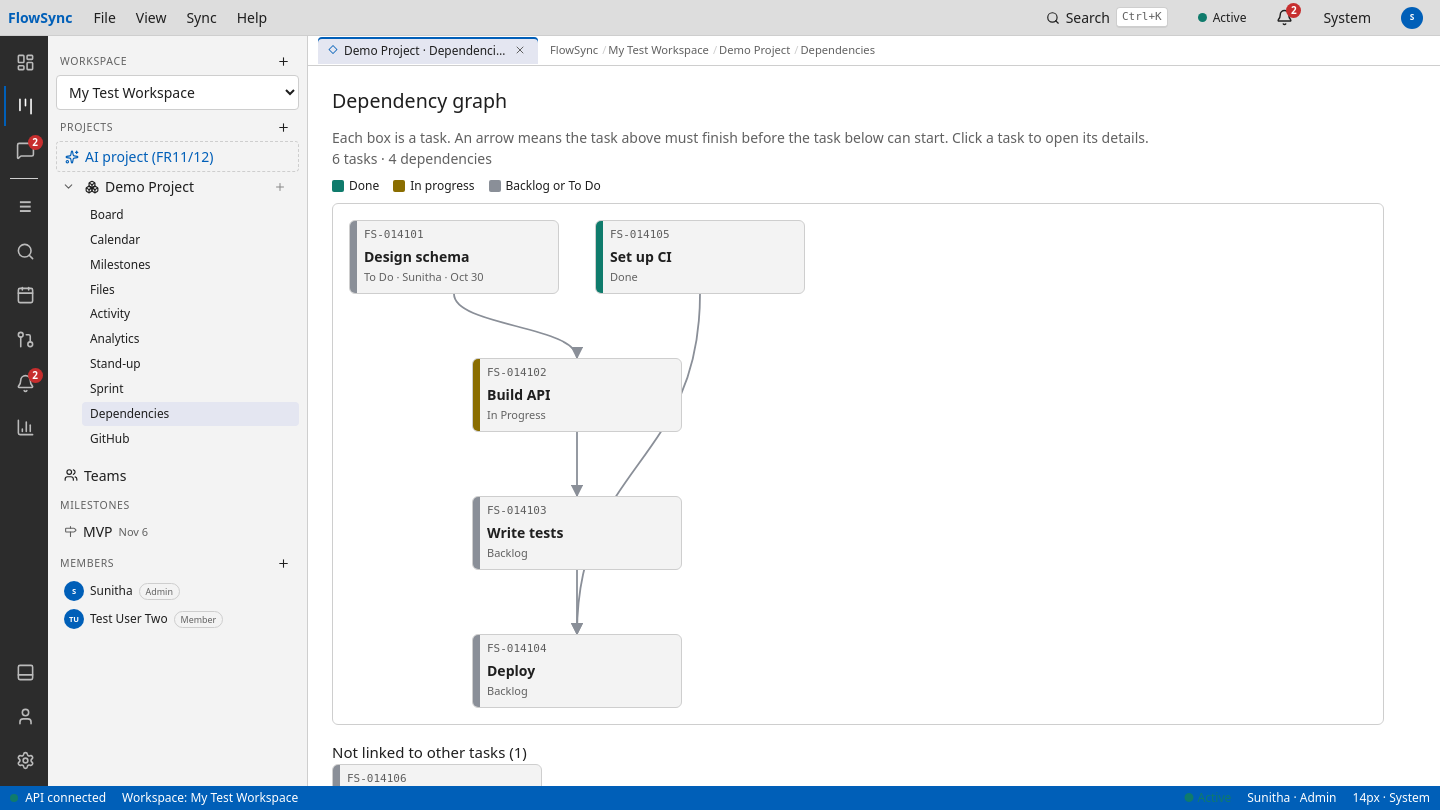
Test: around the graph › runs without a React warning or error
Click the button "FS-014103 Write tests Backlog".
click(577, 533)  # box [472,496,682,570]
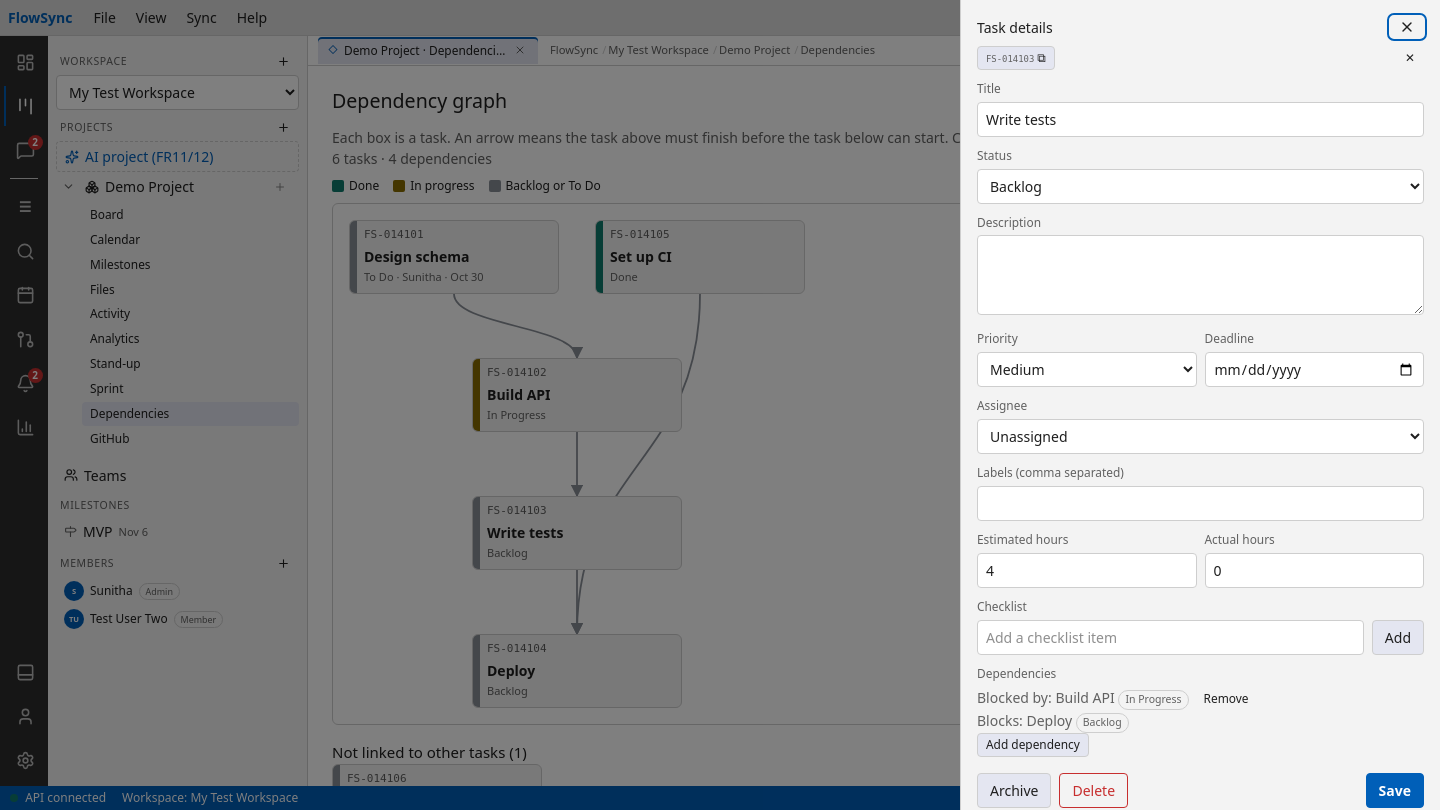
Result: the dialog "Task details" is shown at [960,0,1439,809]
